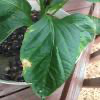Bell_pepper leaf: (18, 15, 99, 61)
